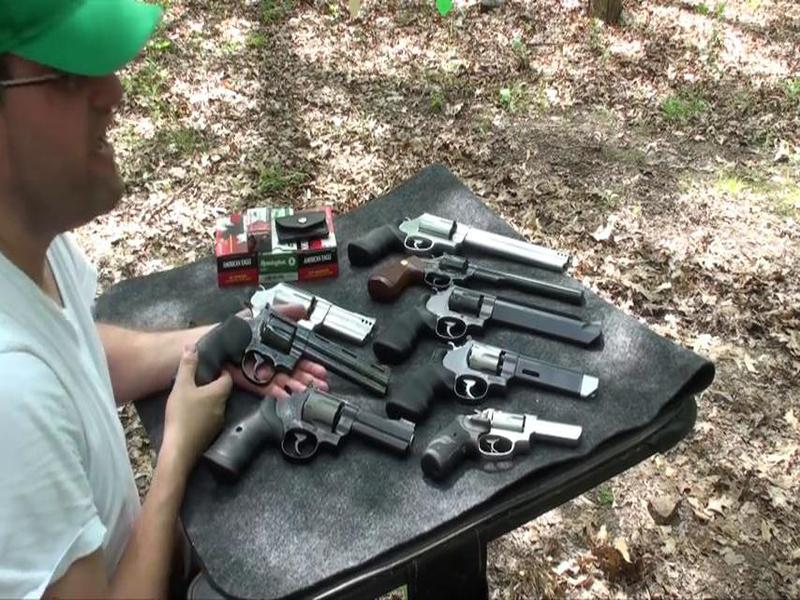Revolver: (169, 277, 403, 423)
